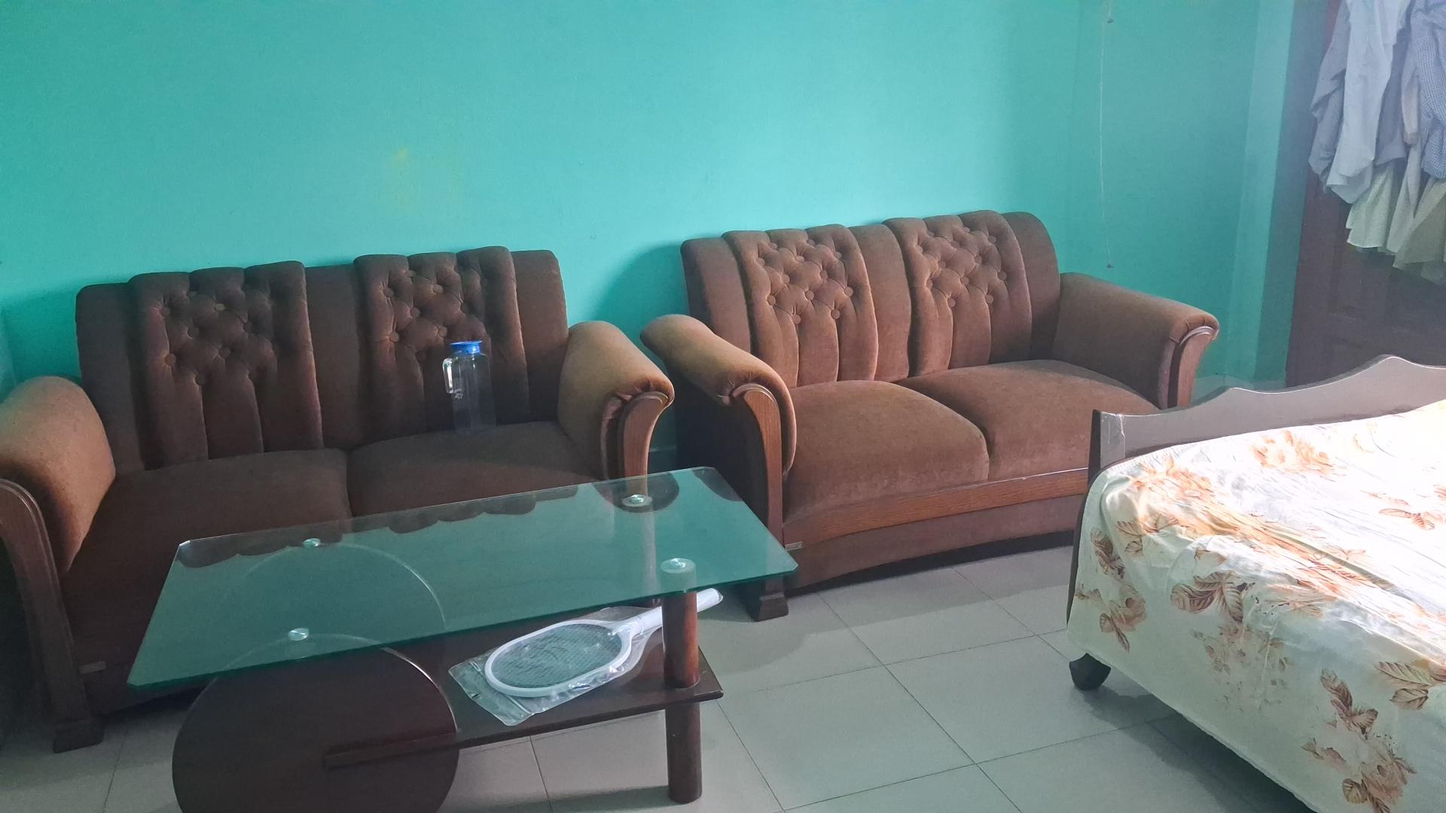Jug: (439, 340, 497, 443)
Table: (119, 462, 788, 803)
